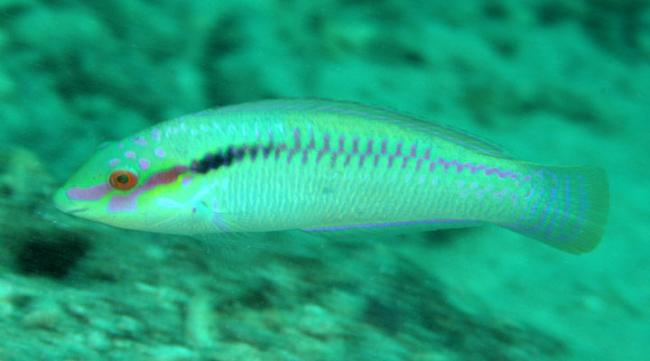fish: (53, 95, 612, 256)
